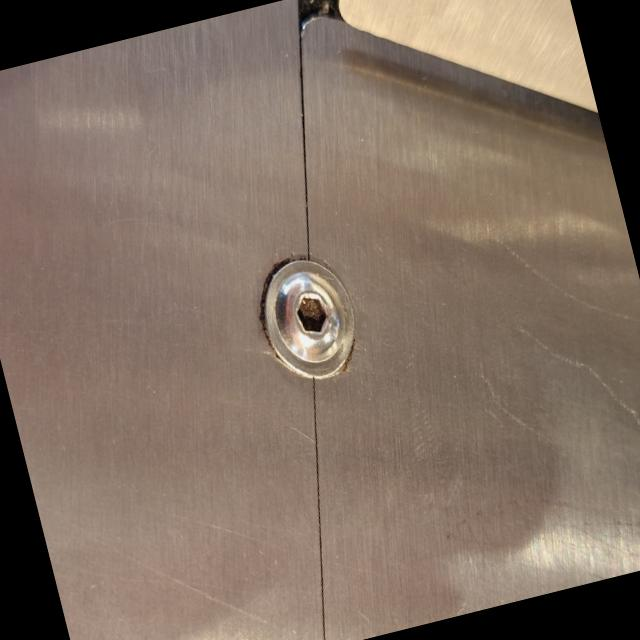Hex Socket Allen: (231, 232, 382, 400)
